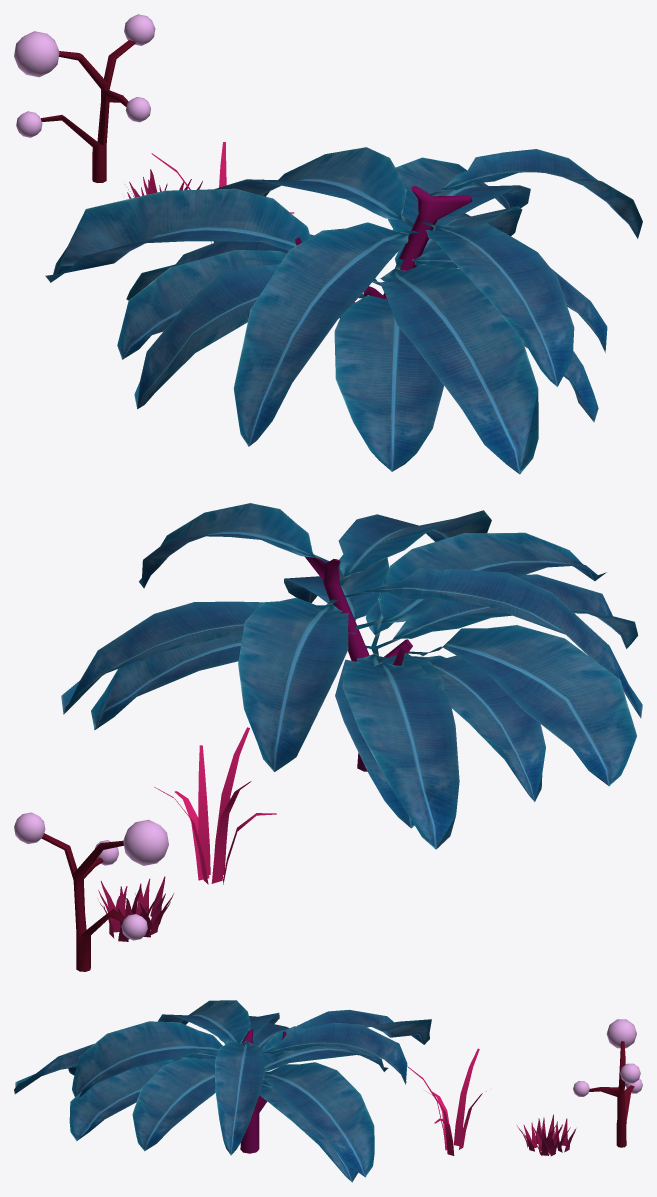
File: software.glb
3 renders of one model, top to bottom at view 1: azimuth 30°, elevation 25°; view 2: azimuth 150°, elevation 25°; view 3: azimuth 270°, elevation 25°, orthographic. The views are drawn at different scales.
Parts seen in each view (by area): view 1: Short Palm_0, Sphere Flowers_3; view 2: Short Palm_0, Sphere Flowers_3, Long Grass_1, Short Grass_2; view 3: Short Palm_0, Sphere Flowers_3, Long Grass_1, Short Grass_2.
Boxes of the visible parts, box(x1,y1,x2,y2) form: Short Palm_0: box(45, 147, 642, 474); Sphere Flowers_3: box(14, 14, 155, 182); Short Palm_0: box(61, 503, 642, 849); Sphere Flowers_3: box(14, 812, 168, 971); Long Grass_1: box(154, 727, 276, 884); Short Grass_2: box(97, 876, 173, 941); Short Palm_0: box(14, 1000, 431, 1182); Sphere Flowers_3: box(573, 1019, 642, 1147); Long Grass_1: box(407, 1048, 486, 1155); Short Grass_2: box(517, 1114, 576, 1156).
Bounding box in the file's own units: 3.67 × 1.54 × 6.27.
Materials: 6 (1 with a texture image).
